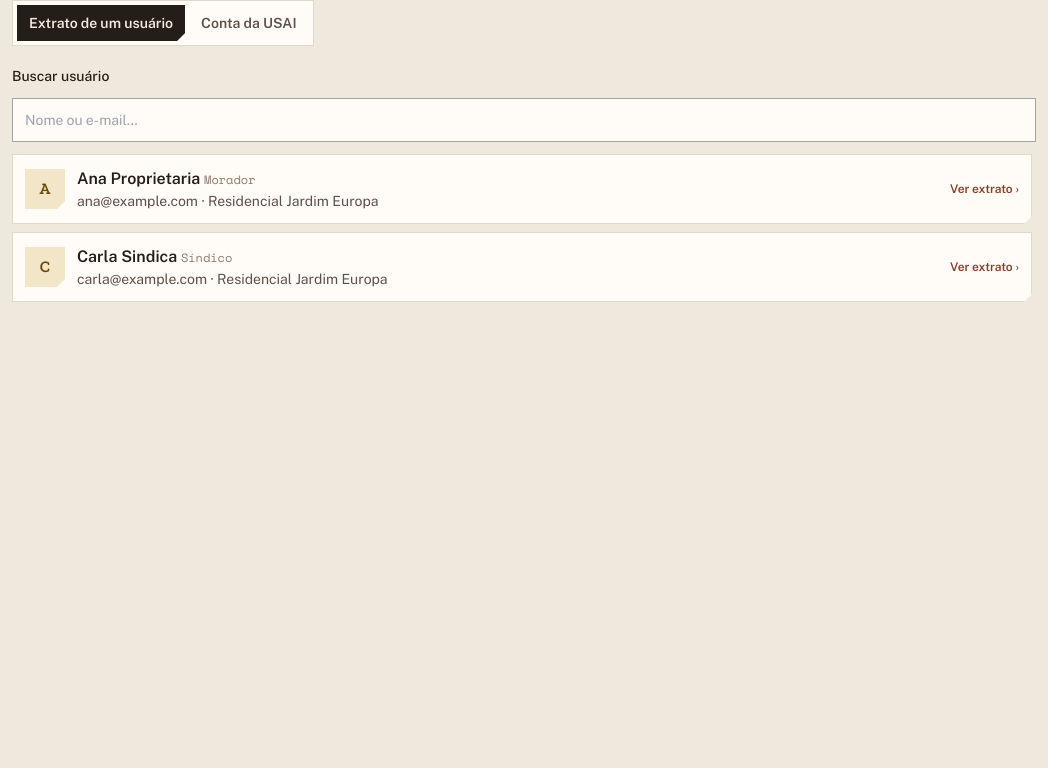
Test: AbaExtratos — extrato de qualquer usuário › lista os usuários e abre o extrato de quem o Admin escolher
The width and height of the screenshot is (1048, 768).
Click the button "Carla Sindica" at x=45, y=267, box [12, 232, 1032, 302]
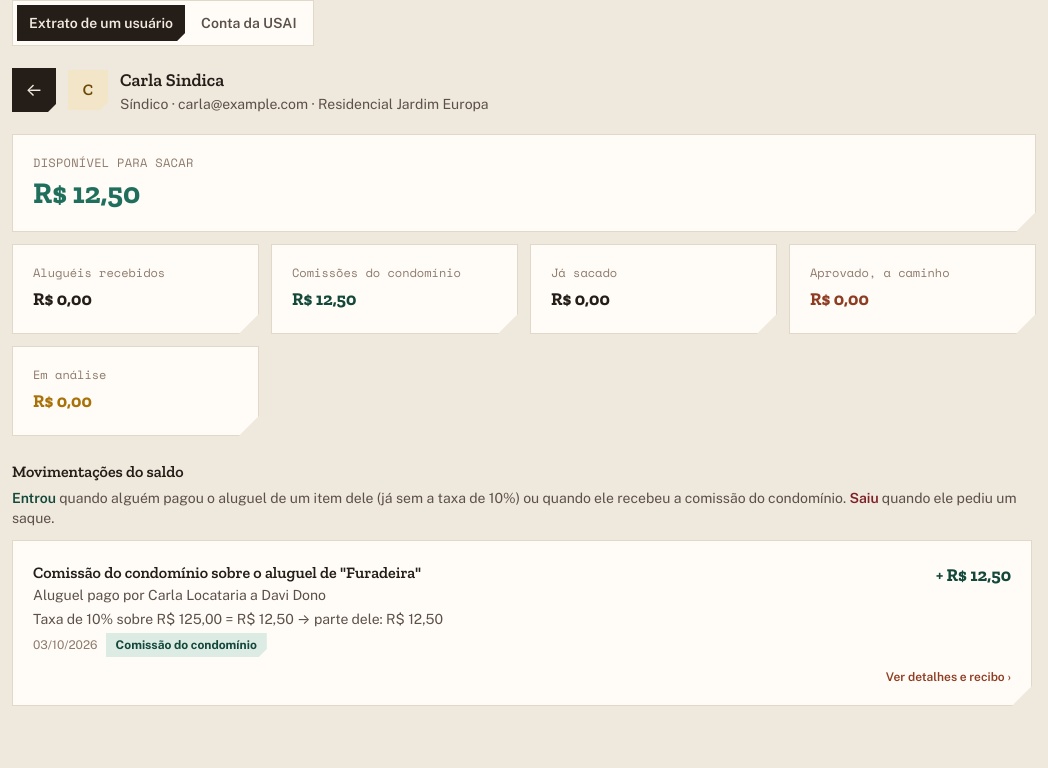
Now the text "Síndico · carla@example.com · Residencial Jardim Europa" is shown, box [120, 94, 488, 114]
Now the text "Aluguel pago por Carla Locataria a Davi Dono" is shown, box [33, 587, 326, 603]
Now the text "Taxa de 10% sobre" is shown, box [33, 611, 443, 627]
